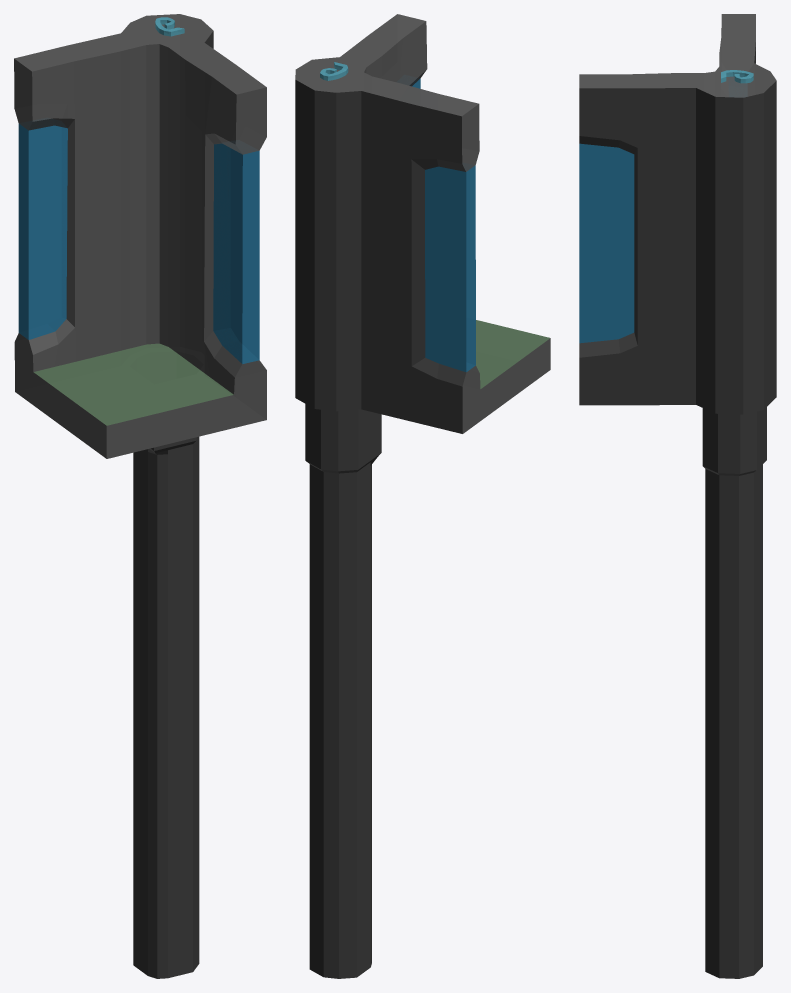
File: RoomCorner.obj
3 renders of one model, left to right at view 1: azimuth 30°, elevation 25°; view 2: azimuth 150°, elevation 25°; view 3: azimuth 270°, elevation 25°, orthographic. The views are drawn at different scales.
Visible parts, largest first — view 1: Corner_Cube, ExteriorCorner_Cube.006, CornerWindows_Cube.004, CornerFloor_Cube.008; view 2: ExteriorCorner_Cube.006, Corner_Cube, CornerWindowsExterior_Cube.007, CornerFloor_Cube.008, CornerWindows_Cube.004; view 3: ExteriorCorner_Cube.006, CornerWindowsExterior_Cube.007, Corner_Cube.
Boxes of the visible parts, left/top/right/bottom form: Corner_Cube: left=14, top=14, right=266, bottom=458; ExteriorCorner_Cube.006: left=133, top=31, right=213, bottom=978; CornerWindows_Cube.004: left=18, top=123, right=259, bottom=363; CornerFloor_Cube.008: left=33, top=343, right=233, bottom=425; ExteriorCorner_Cube.006: left=295, top=79, right=466, bottom=978; Corner_Cube: left=295, top=14, right=550, bottom=433; CornerWindowsExterior_Cube.007: left=425, top=166, right=466, bottom=371; CornerFloor_Cube.008: left=476, top=320, right=549, bottom=388; CornerWindows_Cube.004: left=412, top=79, right=475, bottom=371; ExteriorCorner_Cube.006: left=579, top=42, right=776, bottom=978; CornerWindowsExterior_Cube.007: left=579, top=143, right=634, bottom=343; Corner_Cube: left=579, top=14, right=776, bottom=97.
Size of the model in its own units: 2.27 by 11.27 by 2.26.
